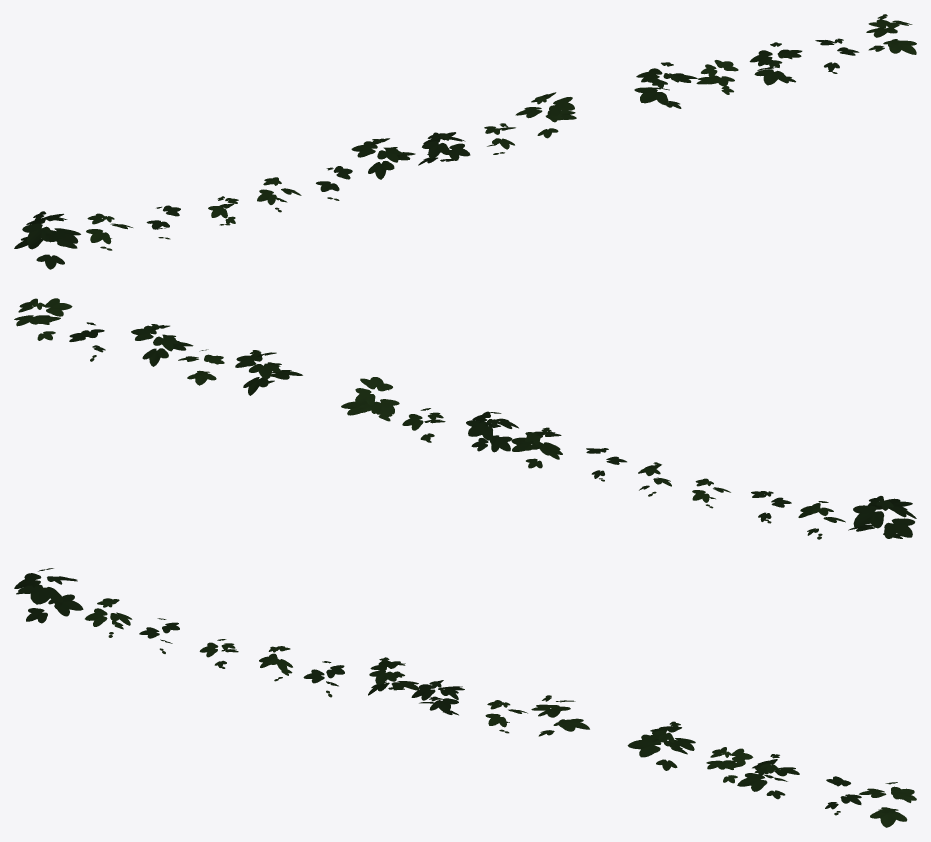
The model's file is ROW_03_SEG3_foliage.dae.
3 views of the same model, one above another, from view 1: azimuth 30°, elevation 25°; view 2: azimuth 150°, elevation 25°; view 3: azimuth 330°, elevation 25° (orthographic).
Parts seen in each view (by area): view 1: ROW_03_SEG3_foliage; view 2: ROW_03_SEG3_foliage; view 3: ROW_03_SEG3_foliage.
Boxes of the visible parts, <box> form: ROW_03_SEG3_foliage: <box>14,14,916,269</box>; ROW_03_SEG3_foliage: <box>14,298,916,539</box>; ROW_03_SEG3_foliage: <box>14,568,916,827</box>.
Size of the model in its own units: 4.9 by 0.35 by 0.2777.
